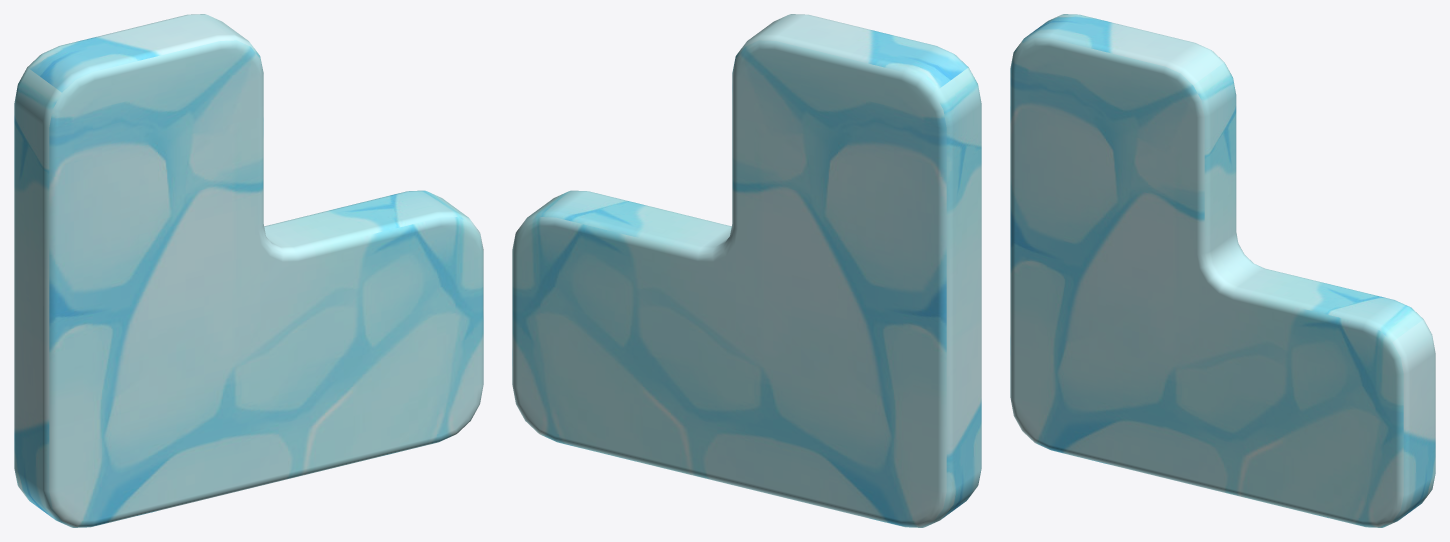
The model's file is Ice_ShortLShape.fbx.
The picture shows the model from 3 angles, left to right: view 1: azimuth 30°, elevation 25°; view 2: azimuth 150°, elevation 25°; view 3: azimuth 330°, elevation 25°; orthographic projection. The views are drawn at different scales.
Visible parts, largest first — view 1: Ice_ShortLShape; view 2: Ice_ShortLShape; view 3: Ice_ShortLShape.
Boxes of the visible parts, left/top/right/bottom form: Ice_ShortLShape: left=14, top=14, right=483, bottom=527; Ice_ShortLShape: left=512, top=14, right=981, bottom=527; Ice_ShortLShape: left=1010, top=14, right=1435, bottom=527.
Size of the model in its own units: 2 by 2 by 0.3.
Materials: 1 (1 with a texture image).
